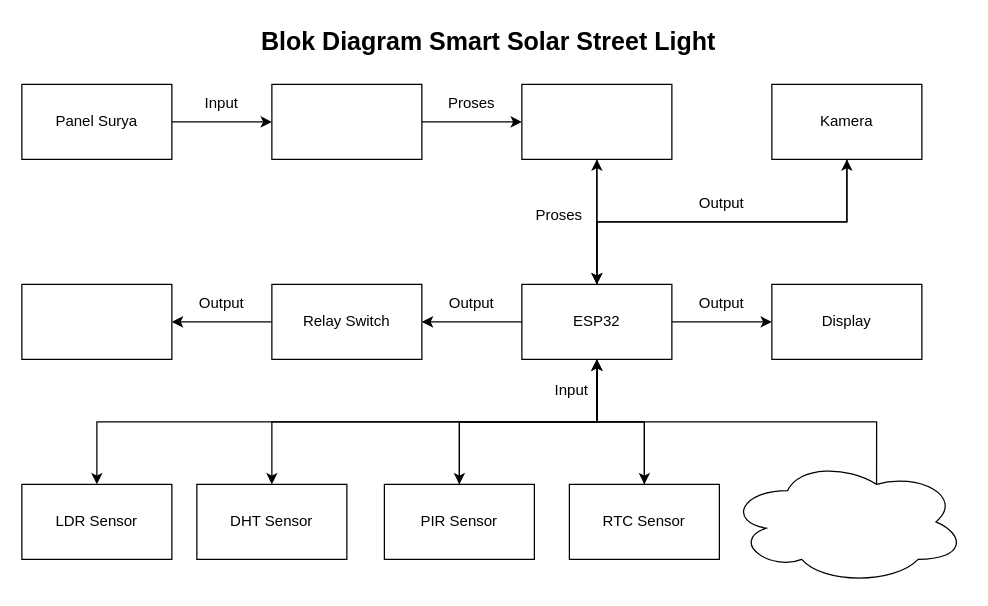
The diagram is 988 pixels wide and 606 high, and some of its shapes have lost their labels. The centre of each missing label's shape, as x and y in pixels:
Baterai: point 596,121
Cloud Blynk / Firebase RTDB: point 846,521
Lampu: point 96,321
Pengontrol Tegangan Surya: point 346,121
